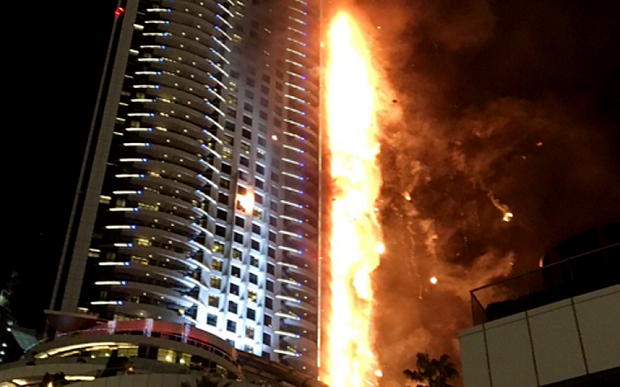Fire: (326, 12, 384, 377), (389, 66, 450, 285), (238, 186, 256, 216)
